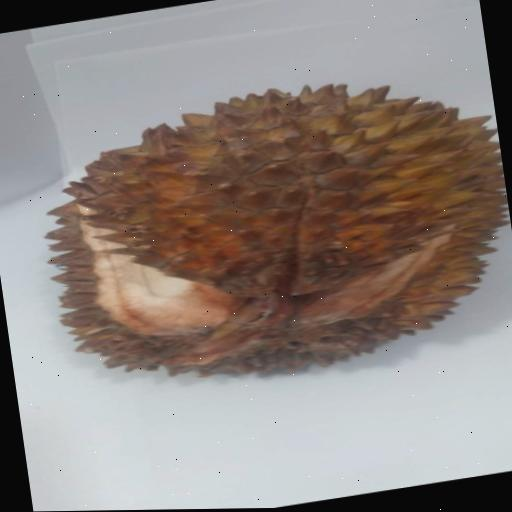rot: (14, 33, 512, 427)
